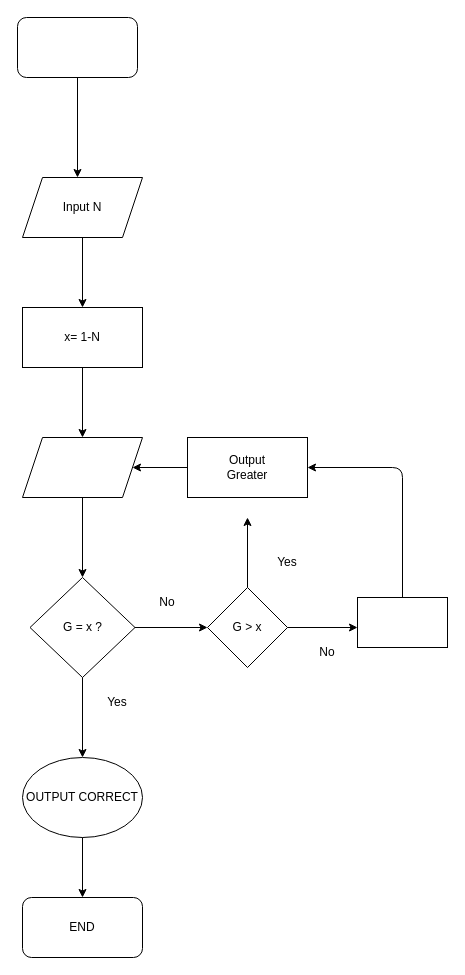
The diagram is 465 pixels wide and 975 high, and some of its shapes have lost their labels. Each missing label, with the box of its shape:
Input G (guess): (22, 436, 142, 498)
Output Smaller: (356, 596, 448, 648)
START: (16, 16, 138, 78)
